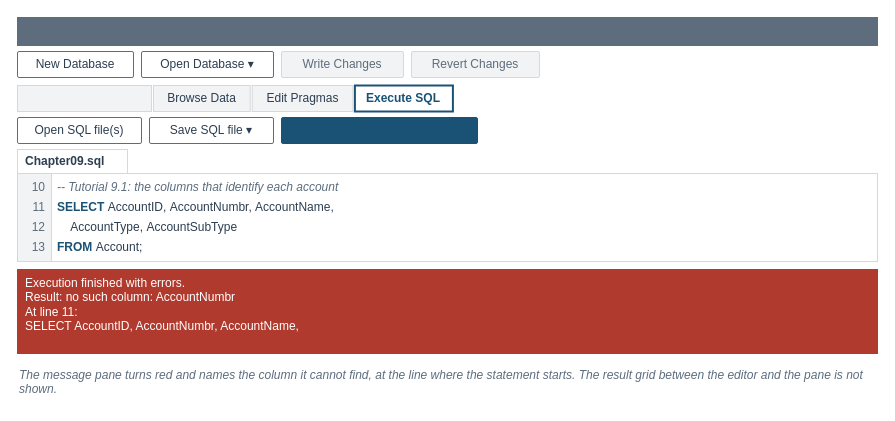
Image size: 895x421. Some labels were removed from this diagram. Each missing label, with the box of its shape:
Database Structure: (16, 84, 152, 112)
DB Browser for SQLite - C:\Users\you\Documents\CharlesRiver_Work.sqlite: (16, 16, 878, 46)
▶ Execute all/selected SQL: (280, 116, 478, 144)
